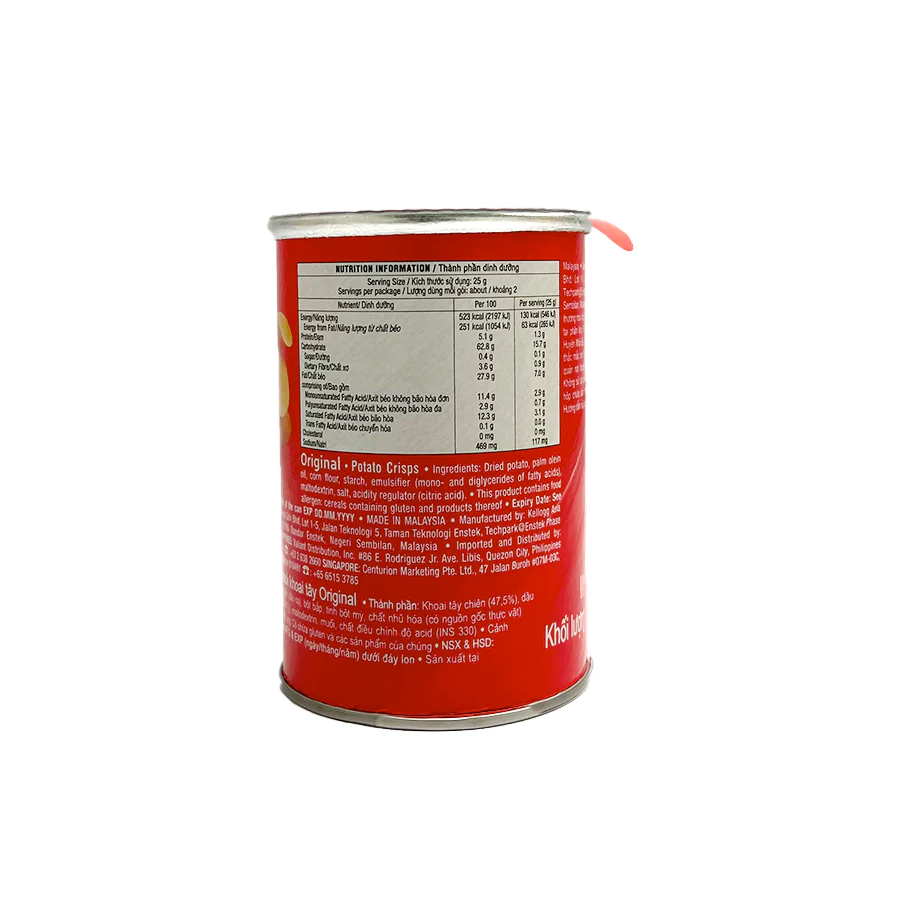non-toxic_waste: (263, 209, 612, 723)
